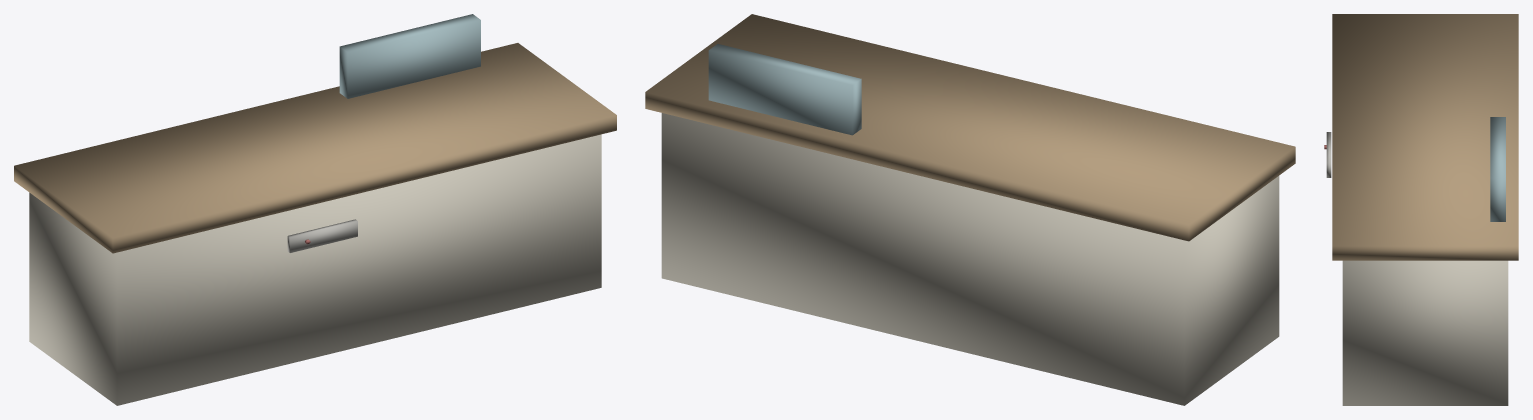
File: post_office_counter__squat.glb
3 renders of one model, left to right at view 1: azimuth 30°, elevation 25°; view 2: azimuth 150°, elevation 25°; view 3: azimuth 270°, elevation 25°, orthographic. The views are drawn at different scales.
Visible parts, largest first — view 1: world; view 2: world; view 3: world.
Part boxes in pixels (bbox=[...]): world: bbox=[14, 14, 616, 405]; world: bbox=[645, 14, 1295, 405]; world: bbox=[1324, 14, 1518, 405].
Bounding box in the file's own units: 2.29 × 0.9576 × 0.8111.
